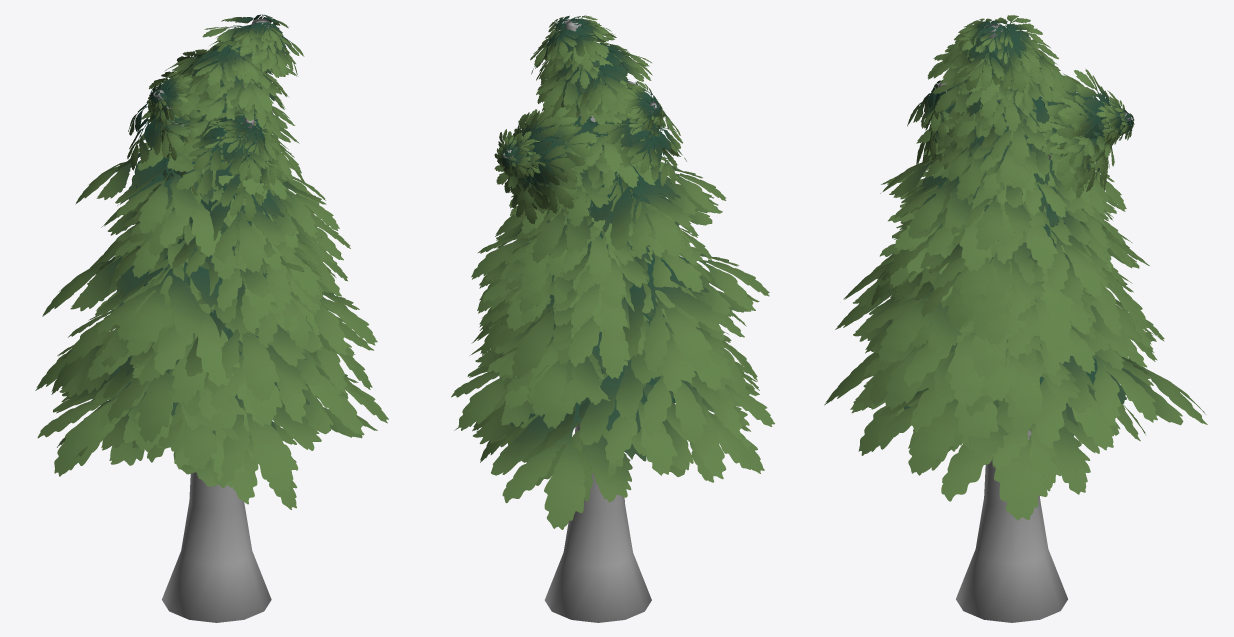
Rendered from PineTree.fbx.
The picture shows the model from 3 angles, left to right: view 1: azimuth 30°, elevation 25°; view 2: azimuth 150°, elevation 25°; view 3: azimuth 270°, elevation 25°; orthographic projection. The views are drawn at different scales.
Visible parts, largest first — view 1: PineLeavesOriginal21, PineTree; view 2: PineLeavesOriginal21, PineTree; view 3: PineLeavesOriginal21, PineTree.
Part boxes in pixels (x1=…): PineLeavesOriginal21: x1=35, y1=14, x2=388, y2=509; PineTree: x1=153, y1=18, x2=271, y2=622; PineLeavesOriginal21: x1=451, y1=15, x2=774, y2=529; PineTree: x1=503, y1=19, x2=659, y2=622; PineLeavesOriginal21: x1=824, y1=15, x2=1207, y2=520; PineTree: x1=938, y1=24, x2=1131, y2=622.
Size of the model in its own units: 47.43 by 83.56 by 51.27.
